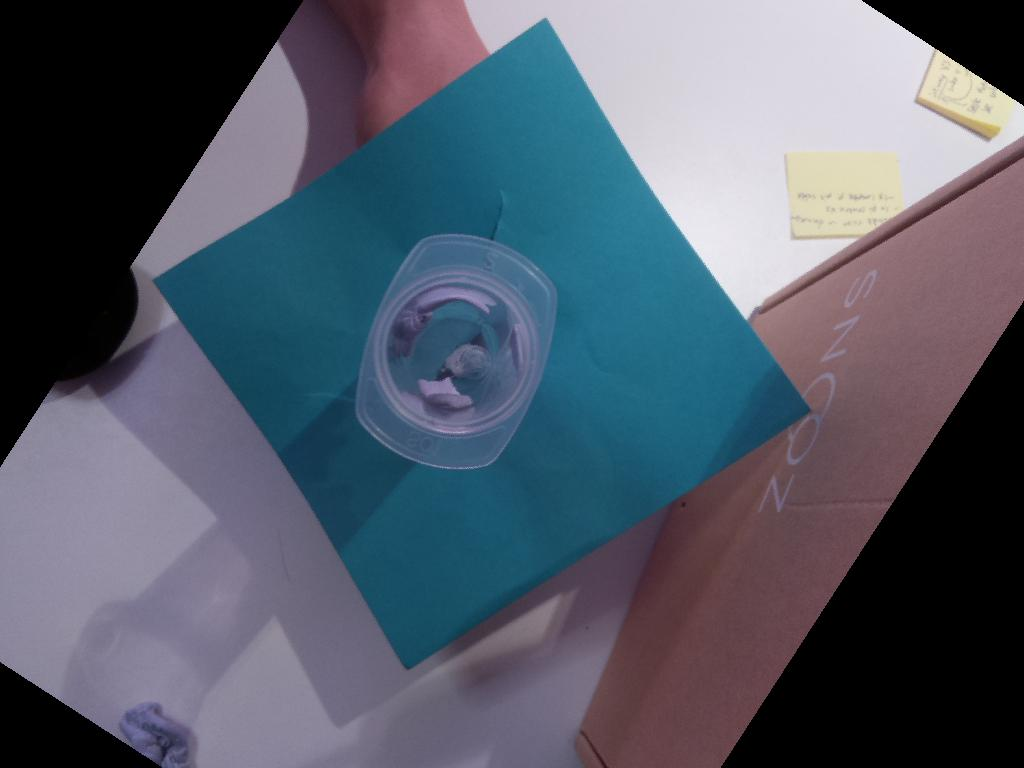dirty: (352, 229, 564, 480)
